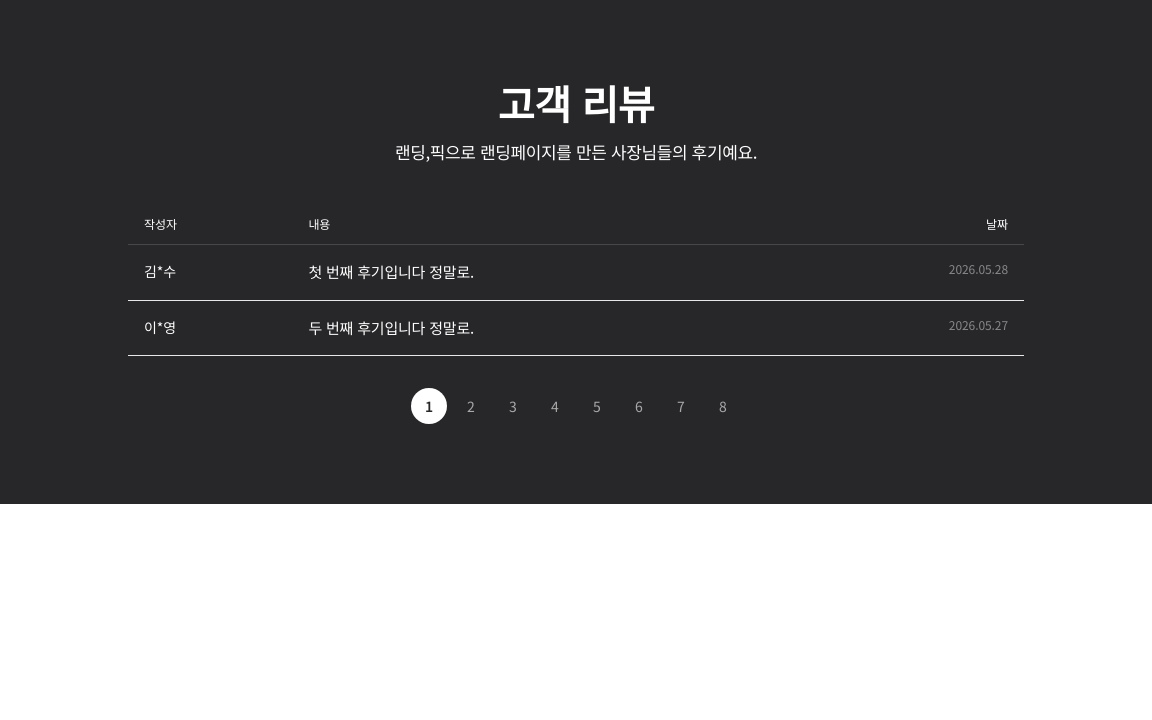
Test: ReviewSection (테이블 + 페이지네이션) › fetch 실패 시 에러 메시지를 보여준다
Click the button named "3페이지" at x=513, y=406, box 495,388 -> 531,424
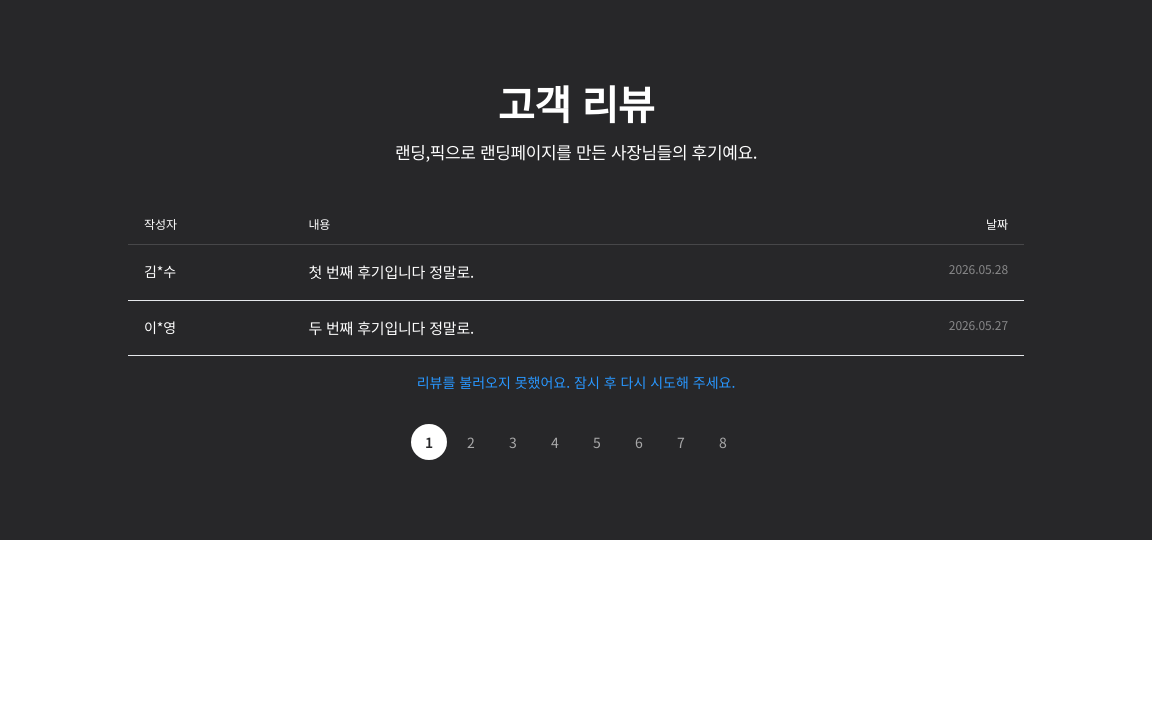
Expected: the text "첫 번째 후기입니다 정말로." is shown, 292,245 -> 793,300
Expected: the message "리뷰를 불러오지 못했어요. 잠시 후 다시 시도해 주세요." is shown, 417,372 -> 735,392
